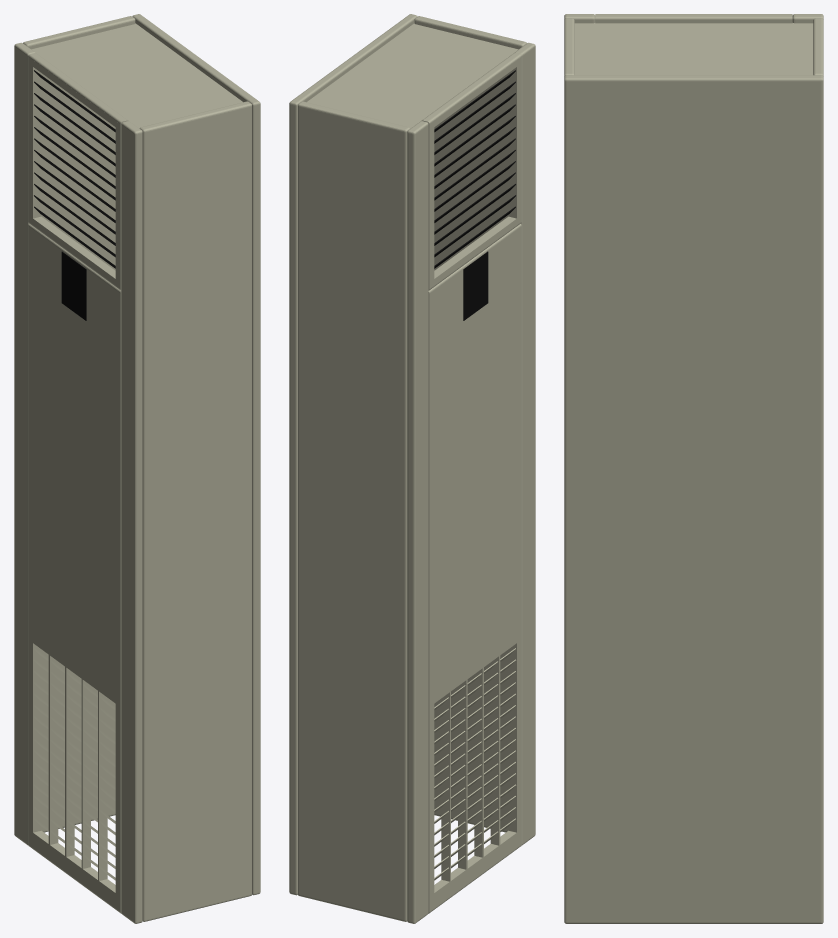
The model's file is kongtiao.FBX.
3 renders of one model, left to right at view 1: azimuth 30°, elevation 25°; view 2: azimuth 150°, elevation 25°; view 3: azimuth 270°, elevation 25°, orthographic. The views are drawn at different scales.
Visible parts, largest first — view 1: 空调0.5*0.3*1.8; view 2: 空调0.5*0.3*1.8; view 3: 空调0.5*0.3*1.8.
Boxes of the visible parts, <box> form: 空调0.5*0.3*1.8: <box>14,14,260,923</box>; 空调0.5*0.3*1.8: <box>289,14,535,923</box>; 空调0.5*0.3*1.8: <box>564,14,823,923</box>.
Bounding box in the file's own units: 301 × 1800 × 500.
